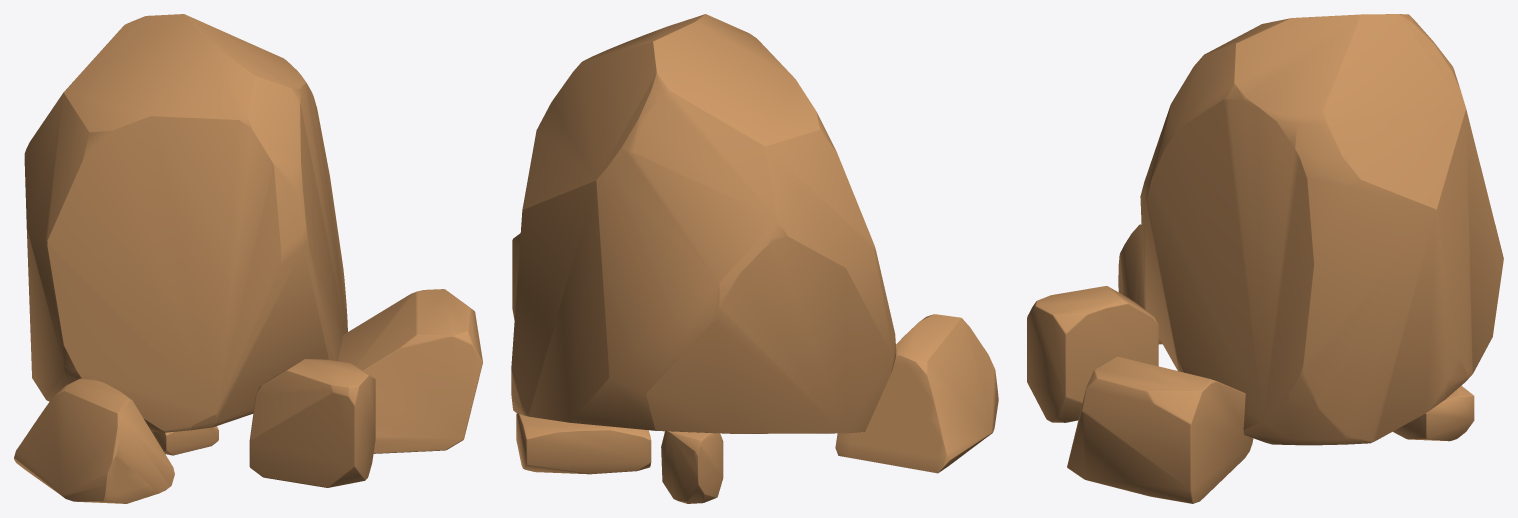
Rendered from Rock Type 5.fbx.
The picture shows the model from 3 angles, left to right: view 1: azimuth 30°, elevation 25°; view 2: azimuth 150°, elevation 25°; view 3: azimuth 270°, elevation 25°; orthographic projection. The views are drawn at different scales.
Parts seen in each view (by area): view 1: Sphere, Cube.001, Cube.003, Cube.006, Cube.002; view 2: Sphere, Cube.006, Cube.005, Cube.004; view 3: Sphere, Cube.001, Cube.003, Cube.005, Cube.006.
Part boxes in pixels (x1=…): Sphere: x1=24, y1=14, x2=347, y2=432; Cube.001: x1=338, y1=289, x2=482, y2=453; Cube.003: x1=249, y1=359, x2=375, y2=487; Cube.006: x1=14, y1=378, x2=174, y2=503; Cube.002: x1=152, y1=426, x2=218, y2=455; Sphere: x1=511, y1=14, x2=896, y2=433; Cube.006: x1=835, y1=314, x2=998, y2=473; Cube.005: x1=516, y1=413, x2=651, y2=474; Cube.004: x1=661, y1=431, x2=723, y2=503; Sphere: x1=1140, y1=14, x2=1503, y2=445; Cube.001: x1=1067, y1=356, x2=1253, y2=503; Cube.003: x1=1027, y1=286, x2=1158, y2=422; Cube.005: x1=1393, y1=386, x2=1474, y2=441; Cube.006: x1=1118, y1=224, x2=1162, y2=344.
Size of the model in its own units: 3630 by 3007 by 3337.
